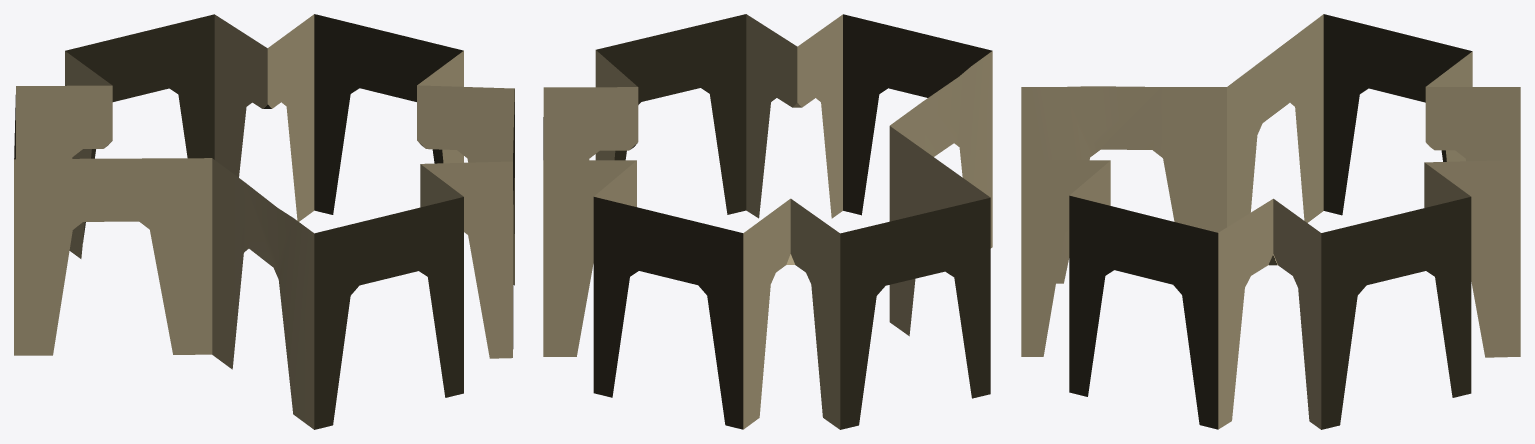
The model's file is Road_Star_Bridge.fbx.
The picture shows the model from 3 angles, left to right: view 1: azimuth 30°, elevation 25°; view 2: azimuth 150°, elevation 25°; view 3: azimuth 270°, elevation 25°; orthographic projection.
Visible parts, largest first — view 1: Road_Star_Bridge; view 2: Road_Star_Bridge; view 3: Road_Star_Bridge.
Boxes of the visible parts, left/top/right/bottom form: Road_Star_Bridge: left=14, top=14, right=514, bottom=429; Road_Star_Bridge: left=543, top=14, right=992, bottom=429; Road_Star_Bridge: left=1021, top=14, right=1520, bottom=429.
Size of the model in its own units: 0.8992 by 0.866 by 0.3766.
